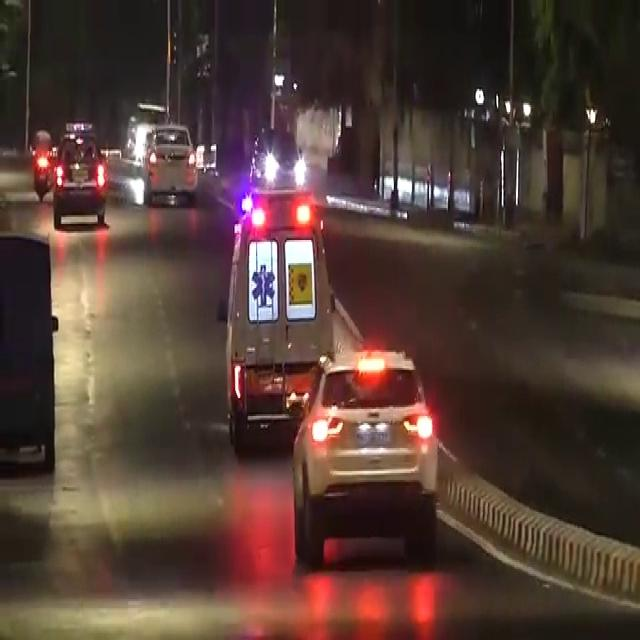ambulance: (212, 166, 324, 424)
